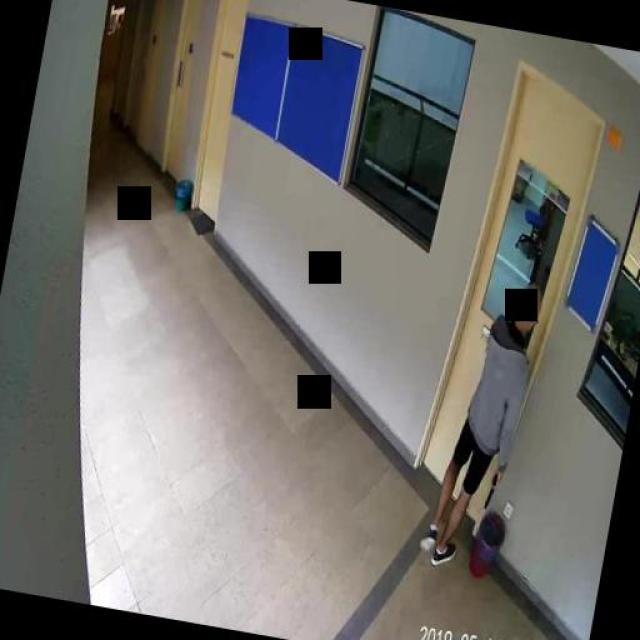gun: (481, 468, 501, 510)
